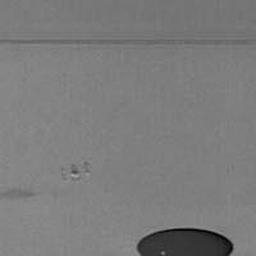Punching: (137, 228, 234, 256)
